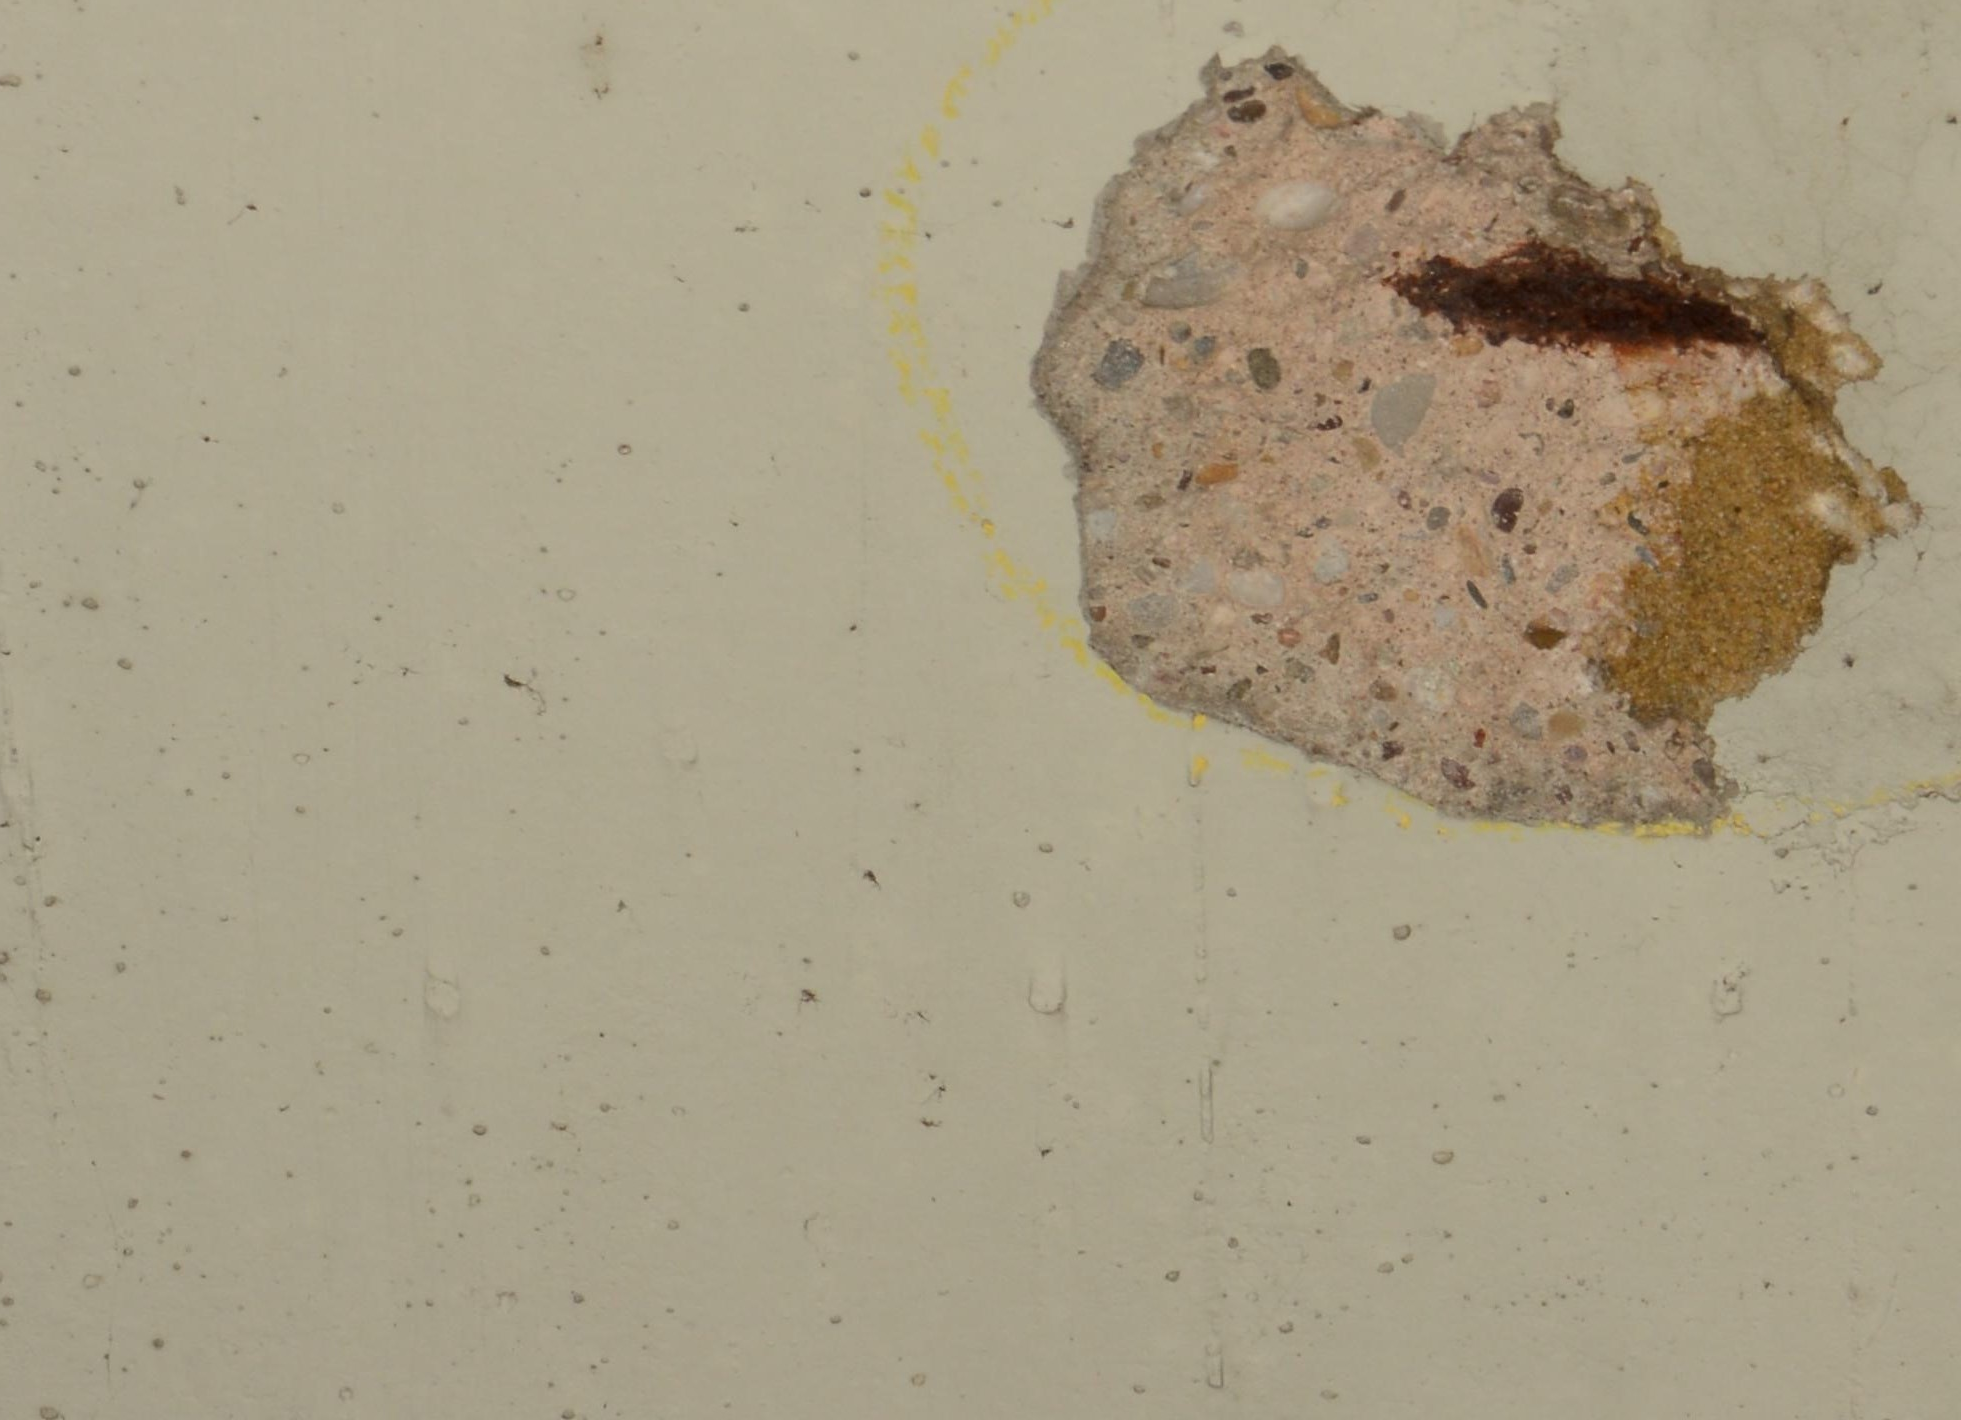Exposed reinforcement: (1379, 257, 1760, 345)
Spalling: (1028, 43, 1923, 831)
